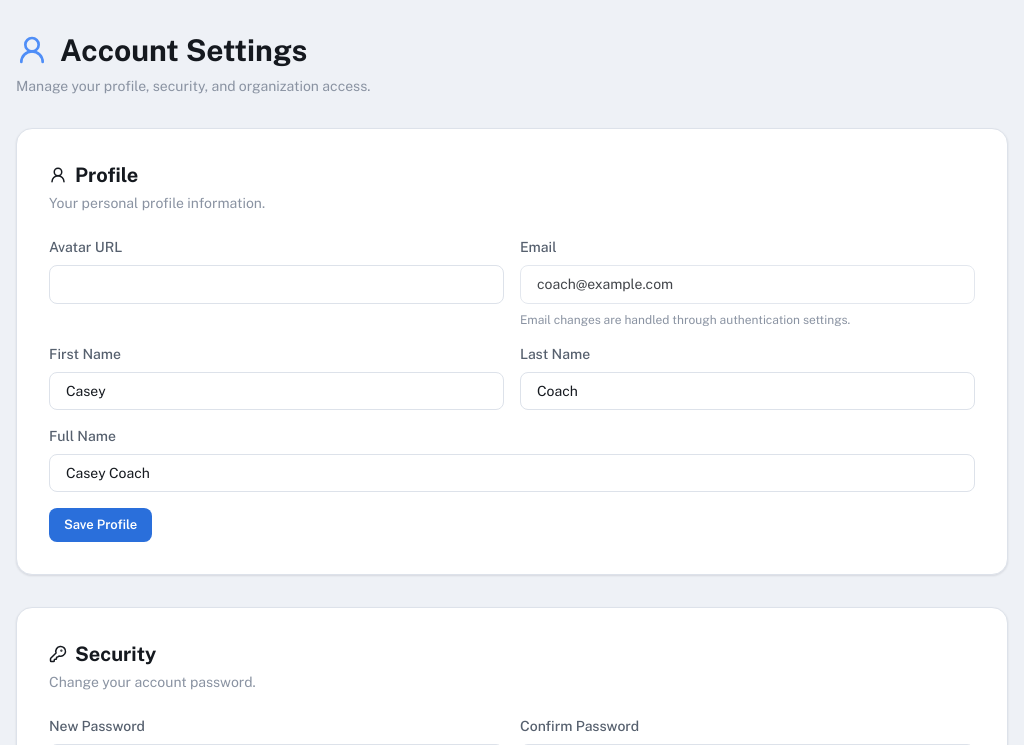
AccountSettingsPage › does not report profile save success when no profile row is updated
The width and height of the screenshot is (1024, 745).
Replace the text in the field labelled "First Name" with "Jordan" at (276, 391), box left=49, top=372, right=504, bottom=410
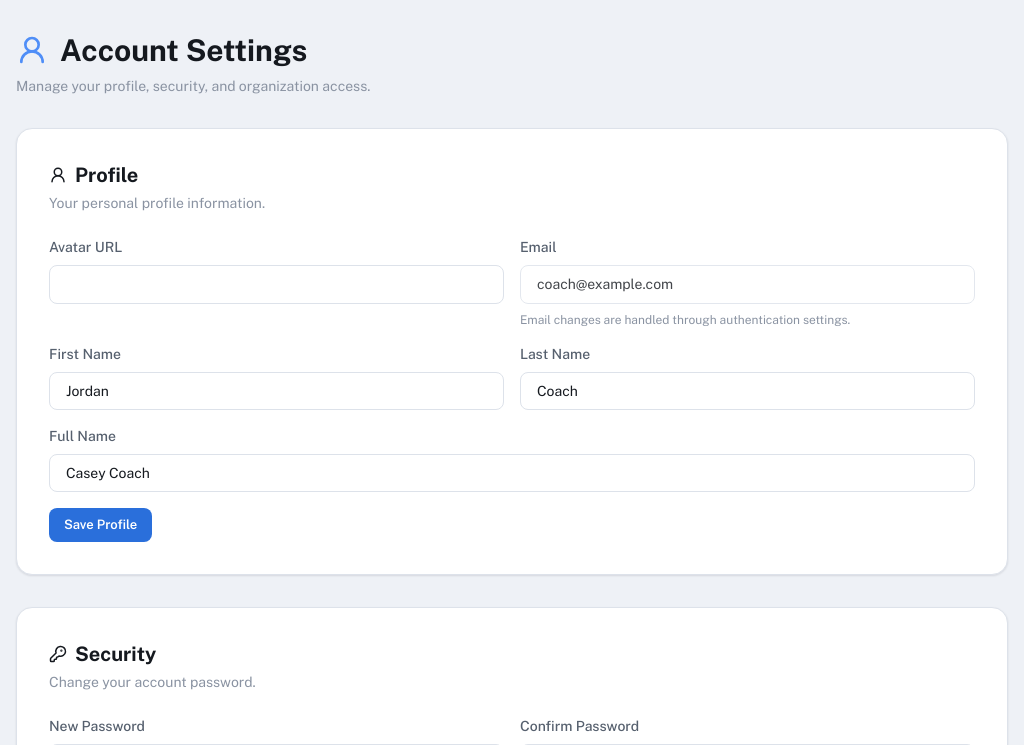
Click the button "Save Profile".
click(101, 525)  # box left=49, top=508, right=152, bottom=542
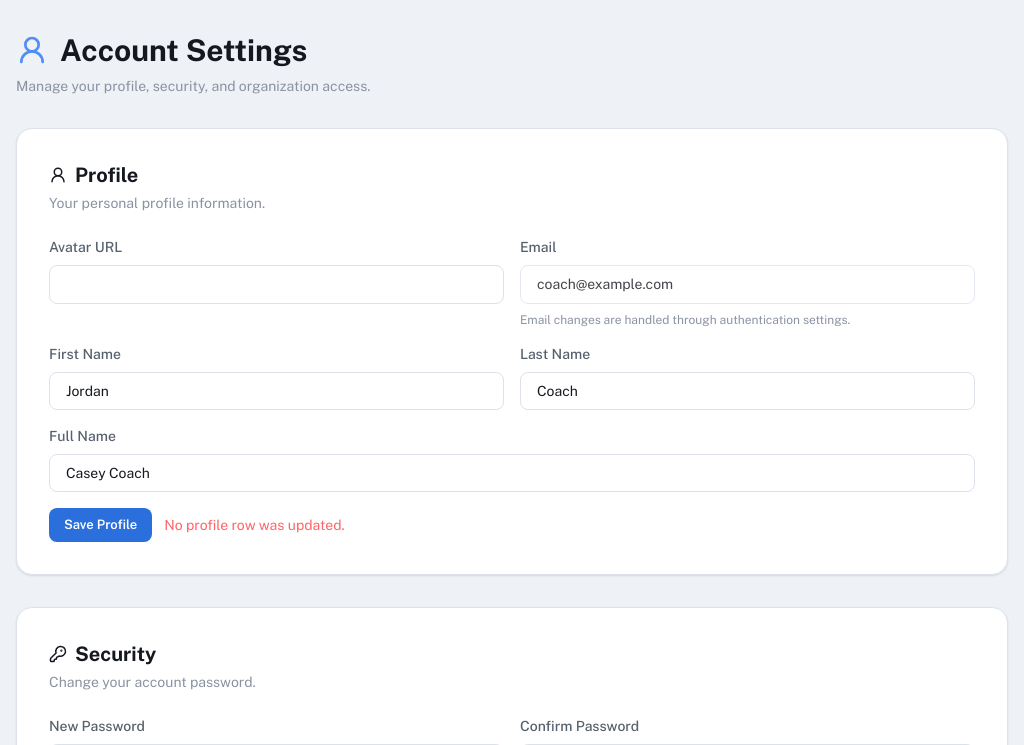
Expected: the message reads "No profile row was updated.", left=164, top=517, right=345, bottom=533
